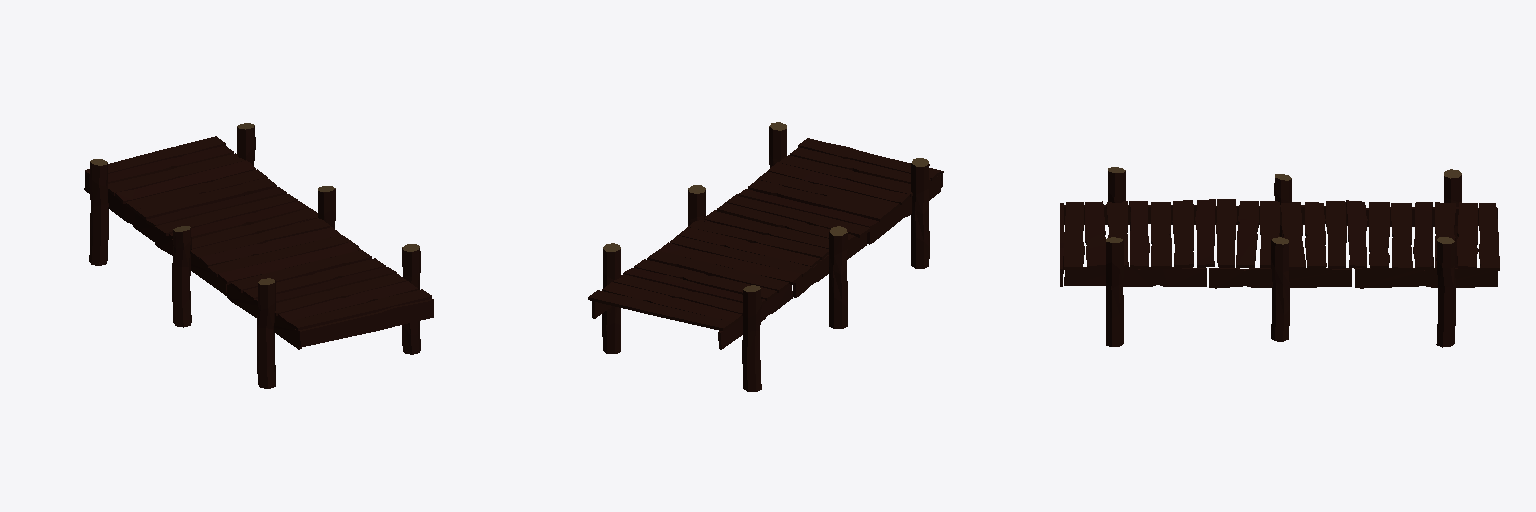
File: Dock_Long_NoRope.obj
3 renders of one model, left to right at view 1: azimuth 30°, elevation 25°; view 2: azimuth 150°, elevation 25°; view 3: azimuth 270°, elevation 25°, orthographic.
Visible parts, largest first — view 1: Dock_Long_NoRope_Cylinder.003; view 2: Dock_Long_NoRope_Cylinder.003; view 3: Dock_Long_NoRope_Cylinder.003.
Part boxes in pixels (left/top/right/bottom): Dock_Long_NoRope_Cylinder.003: left=84, top=123, right=433, bottom=388; Dock_Long_NoRope_Cylinder.003: left=588, top=122, right=943, bottom=391; Dock_Long_NoRope_Cylinder.003: left=1060, top=167, right=1499, bottom=347.
Size of the model in its own units: 9.21 by 5.66 by 21.69.